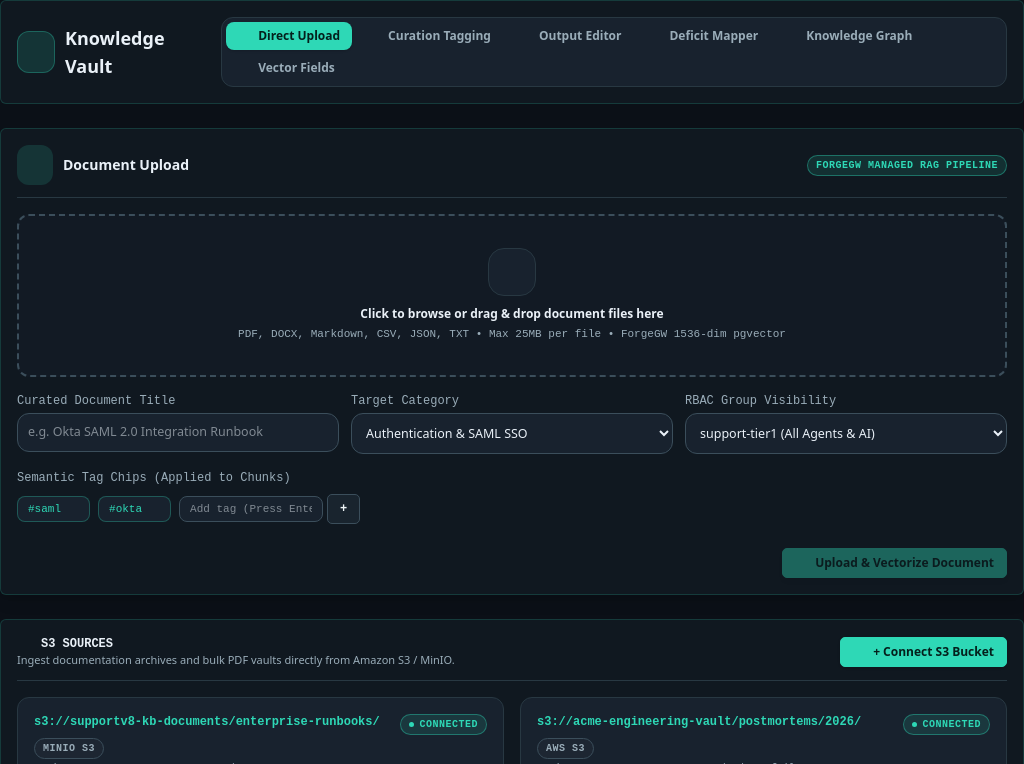
Knowledge Suite Embeddings ForgeGW Integration › displays ForgeGW Managed pill in RAG chunk editor sub-tab when ForgeGW is active
What coordinates should you click on to do the following:
click the button "Output Editor"
I would click on:
 (570, 36)
Its box is [507,22,634,50].
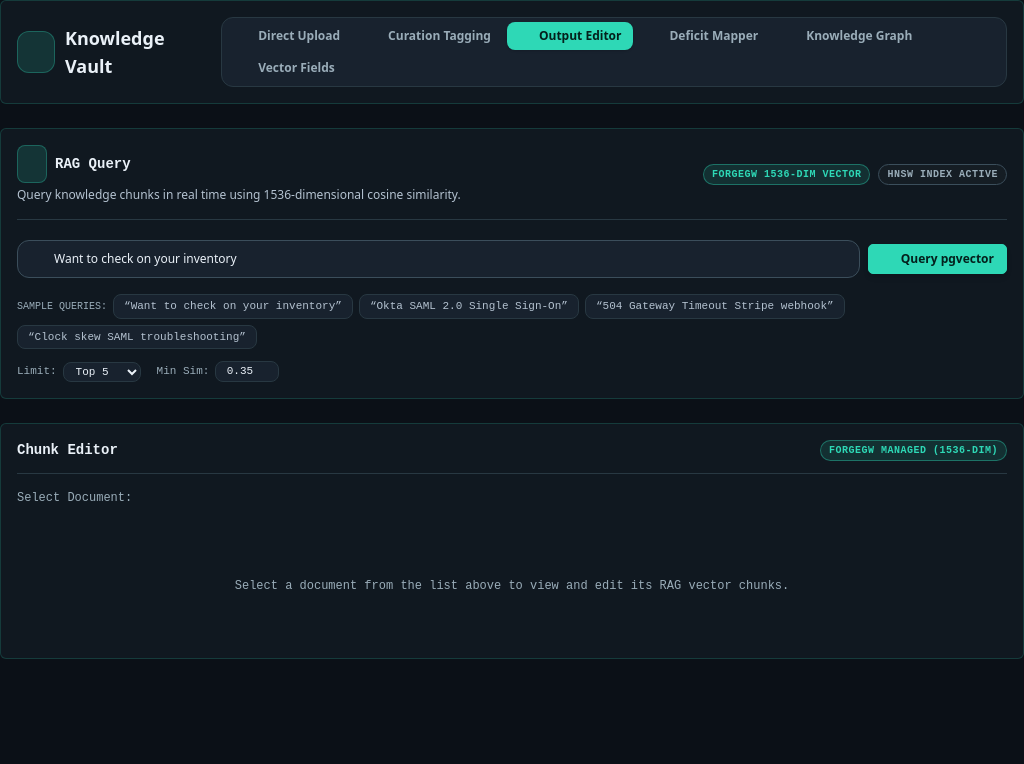
Expected: the text "FORGEGW MANAGED (1536-DIM)" is shown, [820,440,1007,461]
